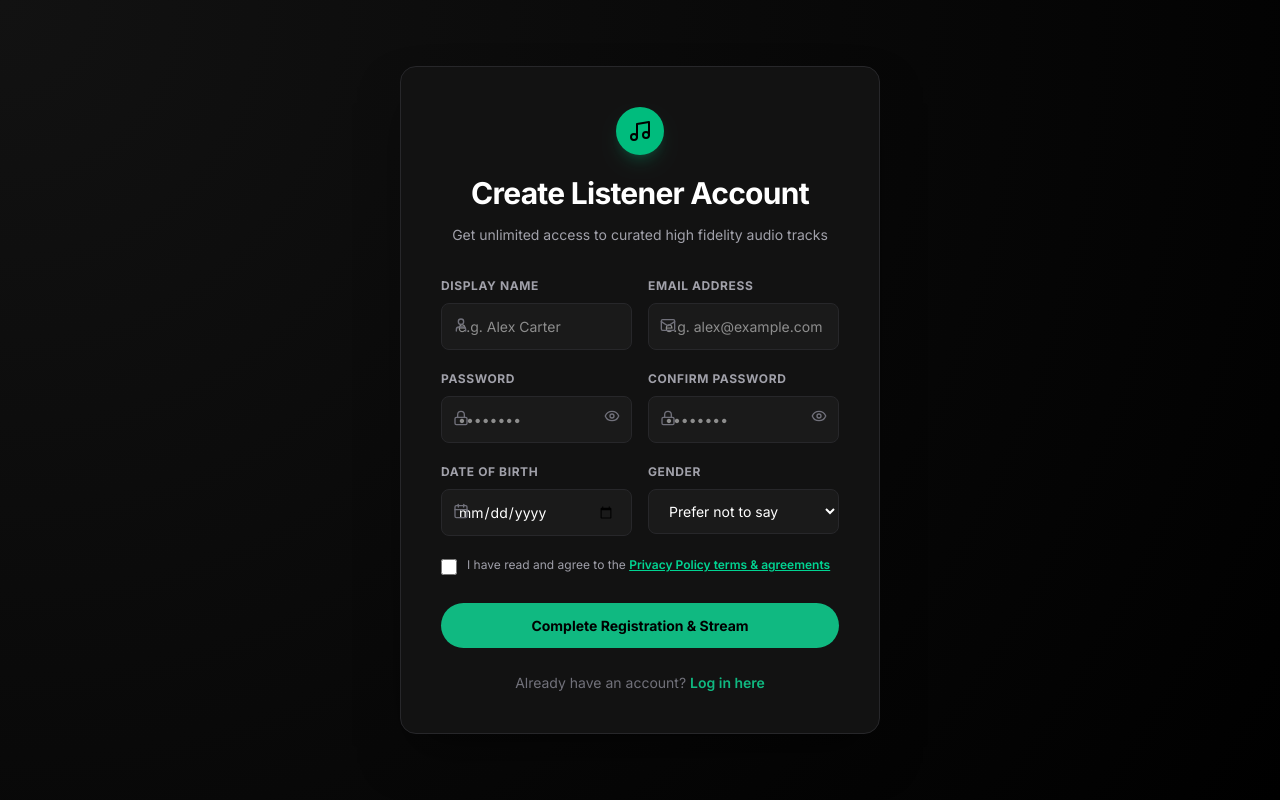
Test case: Spotify-Like Music Application - 10 Test Suite › 4. should block listener signup if the privacy policy agreement checkbox is unchecked
// Fill valid credentials
Type "Alex Jones" into the field labelled "Display Name" at {"x": 536, "y": 326}, box top-left (441, 303), bottom-right (632, 350)
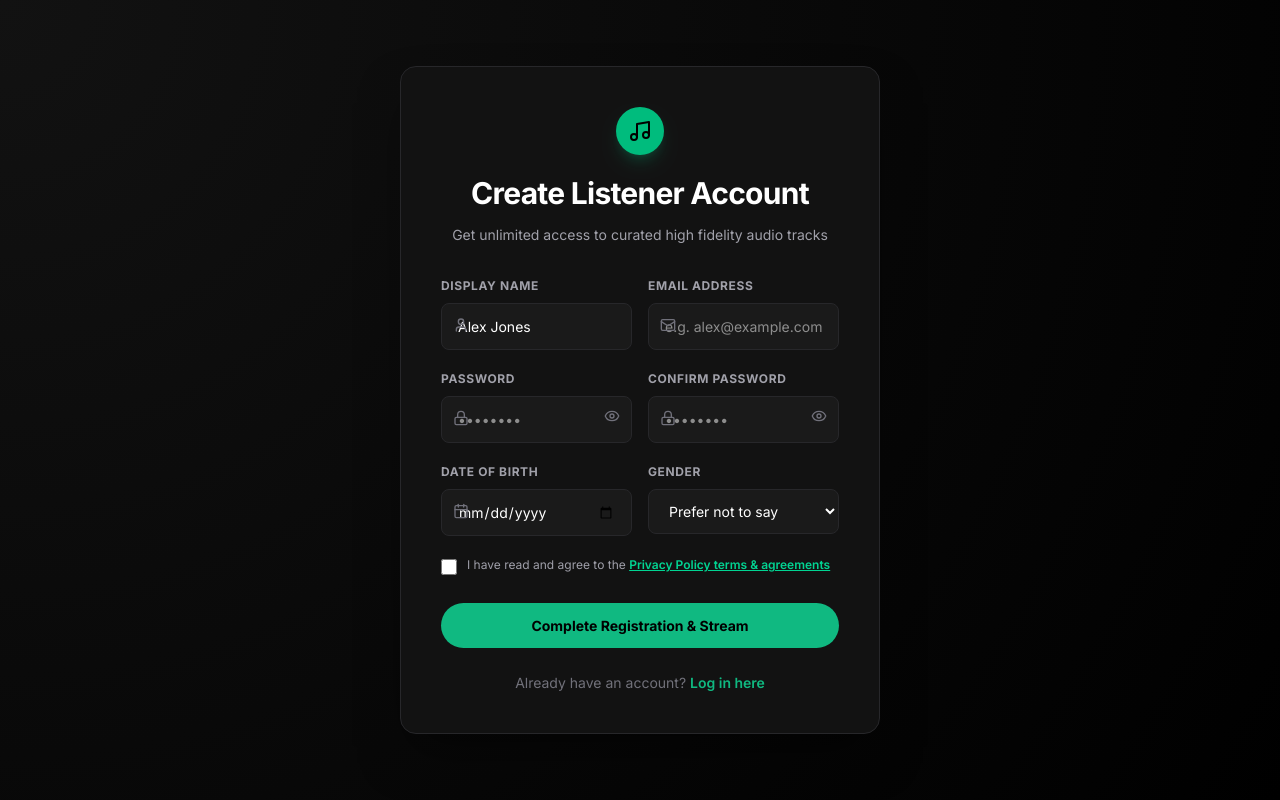
Type "alex.jones@example.com" into the field labelled "Email Address" at {"x": 744, "y": 326}, box top-left (648, 303), bottom-right (839, 350)
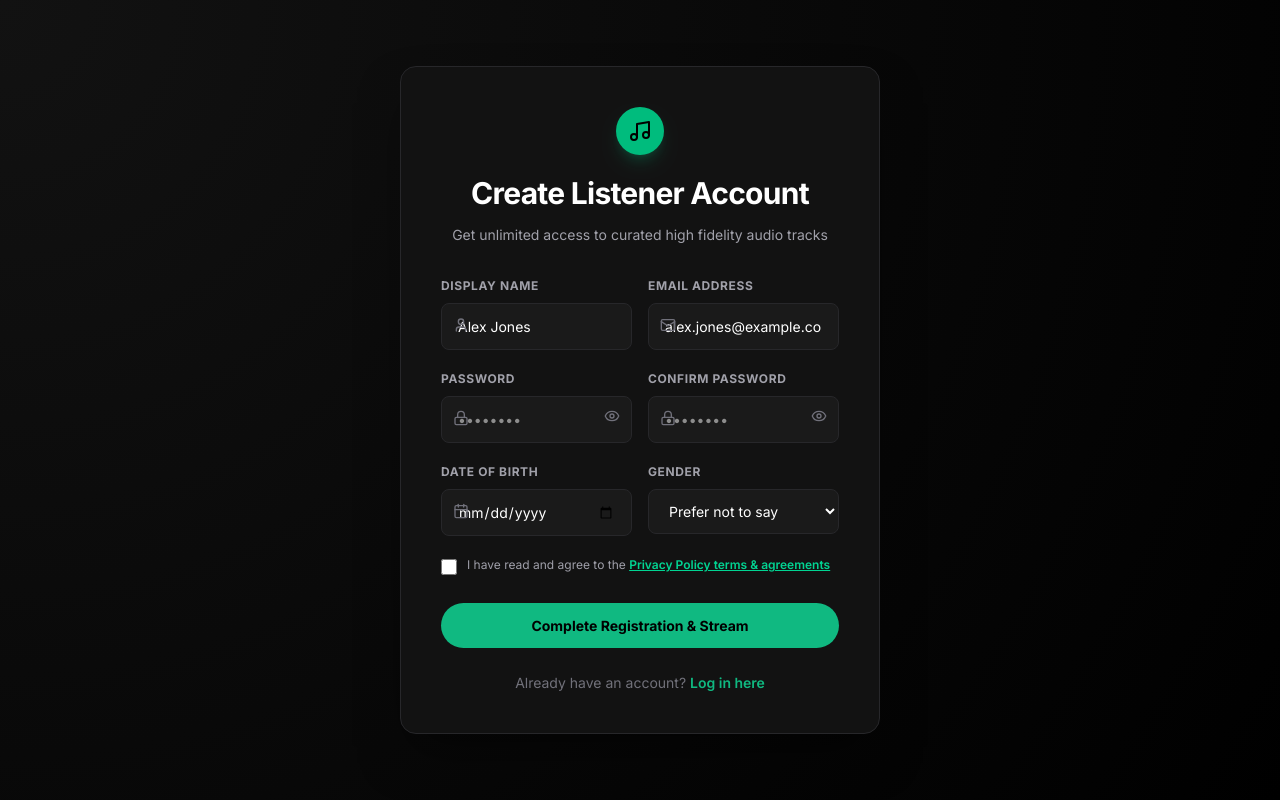
Type "secret123" into the password field labelled "Password" at {"x": 536, "y": 420}, box top-left (441, 396), bottom-right (632, 443)
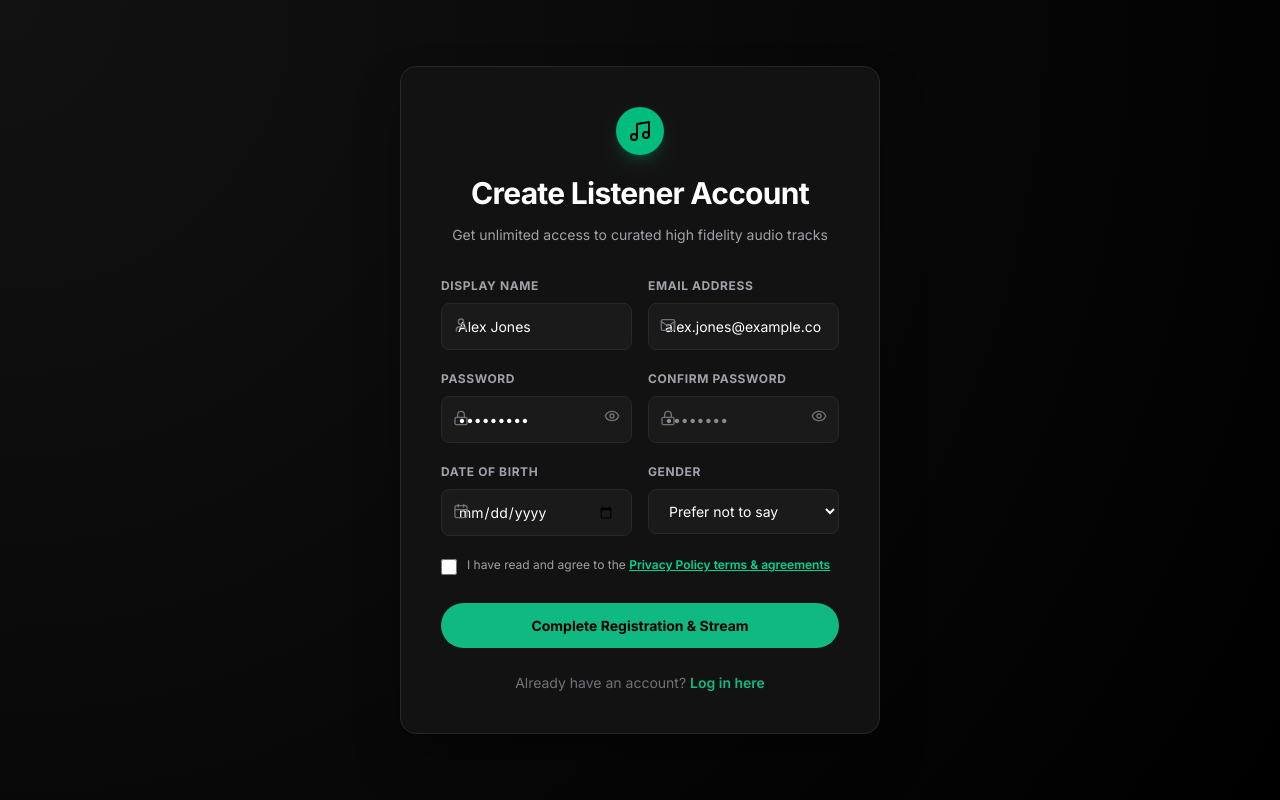
Type "secret123" into the password field labelled "Confirm Password" at {"x": 744, "y": 420}, box top-left (648, 396), bottom-right (839, 443)
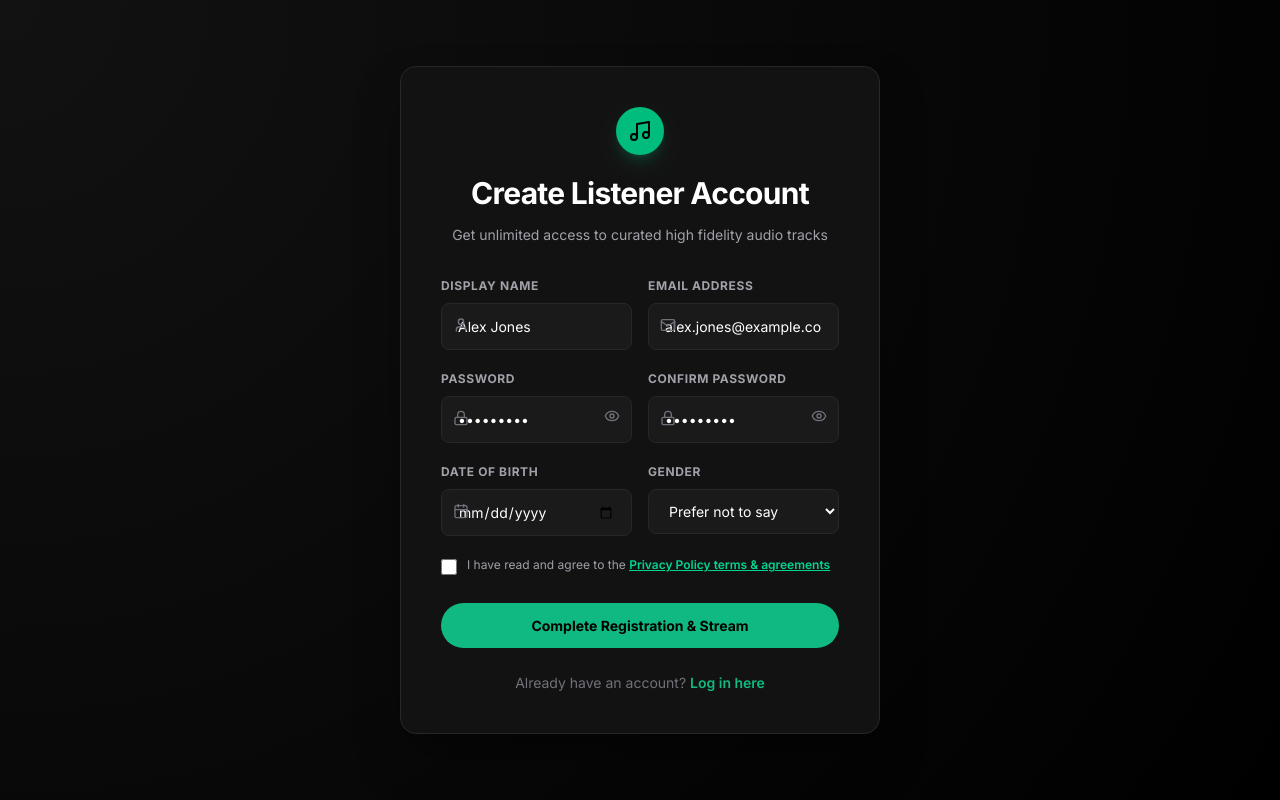
Type "1995-10-15" into the date field labelled "Date of Birth" at {"x": 536, "y": 512}, box top-left (441, 489), bottom-right (632, 536)
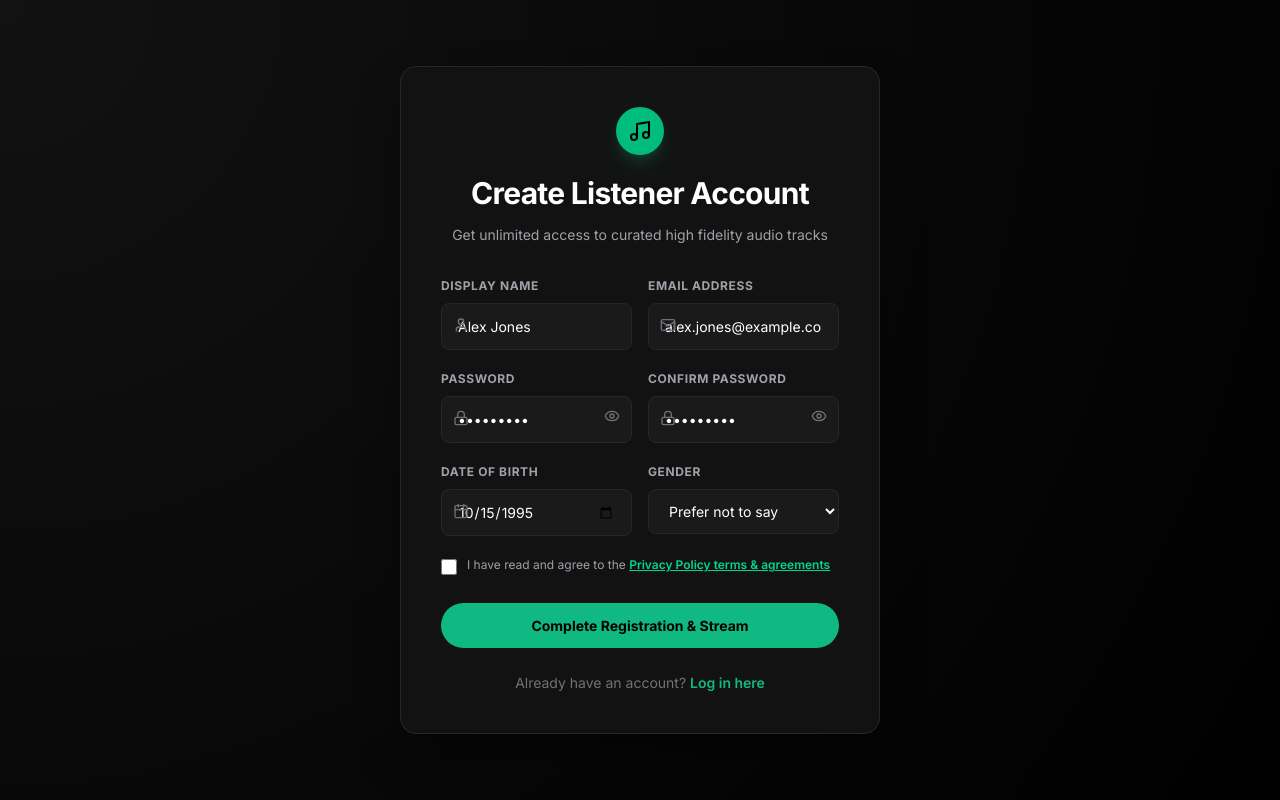
// Leave checkbox UNCHECKED and submit
Click the button "Complete Registration & Stream" at {"x": 640, "y": 626}, box top-left (441, 603), bottom-right (839, 648)
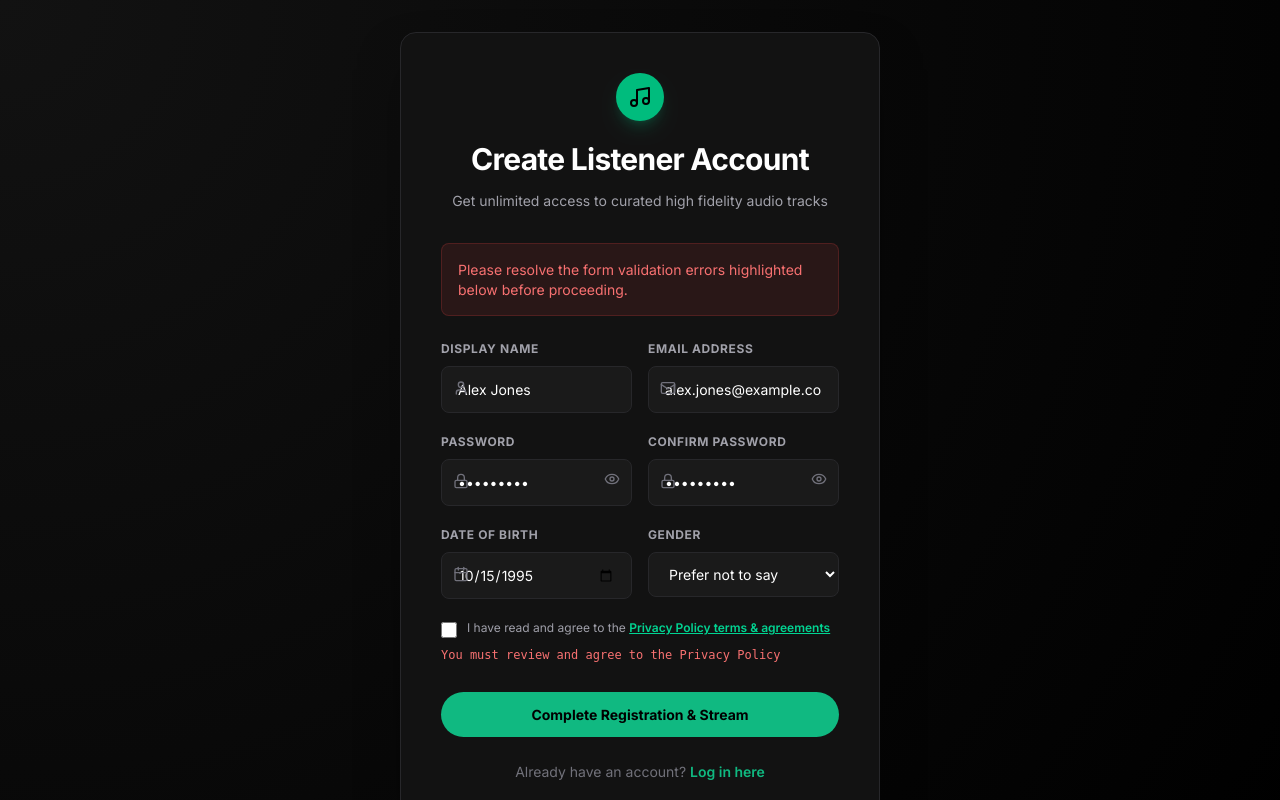
Now the text "You must review and agree to the Privacy Policy" is shown, box top-left (441, 646), bottom-right (839, 664)
